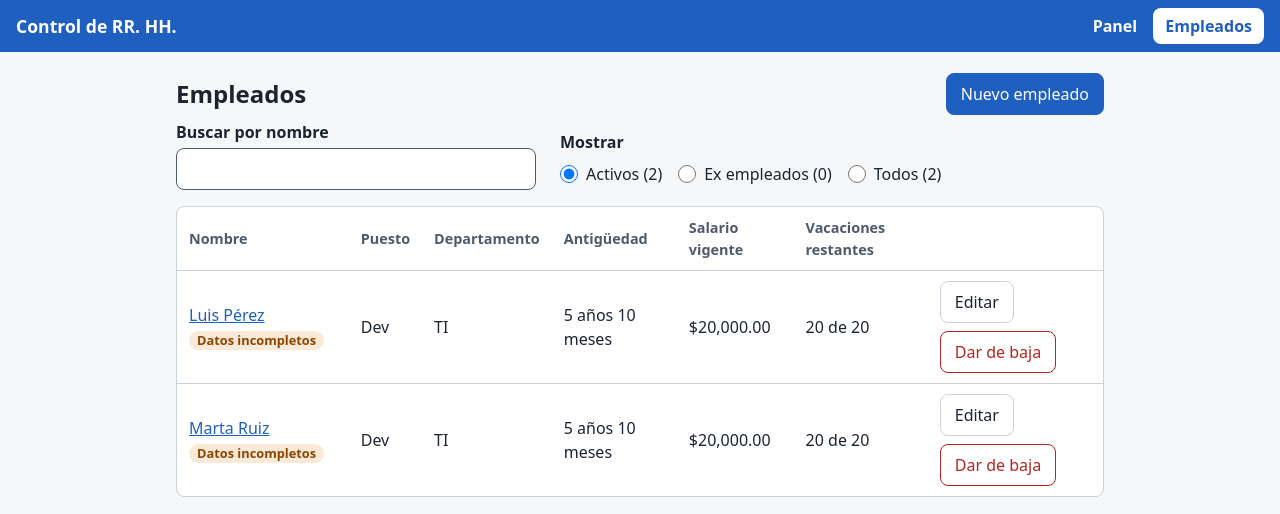
Test: CRUD de empleados (A1) › filtra la lista por nombre
Type "mar" into the search field labelled "Buscar por nombre".
click(356, 169); type("mar")  # box x1=176 y1=148 x2=536 y2=190
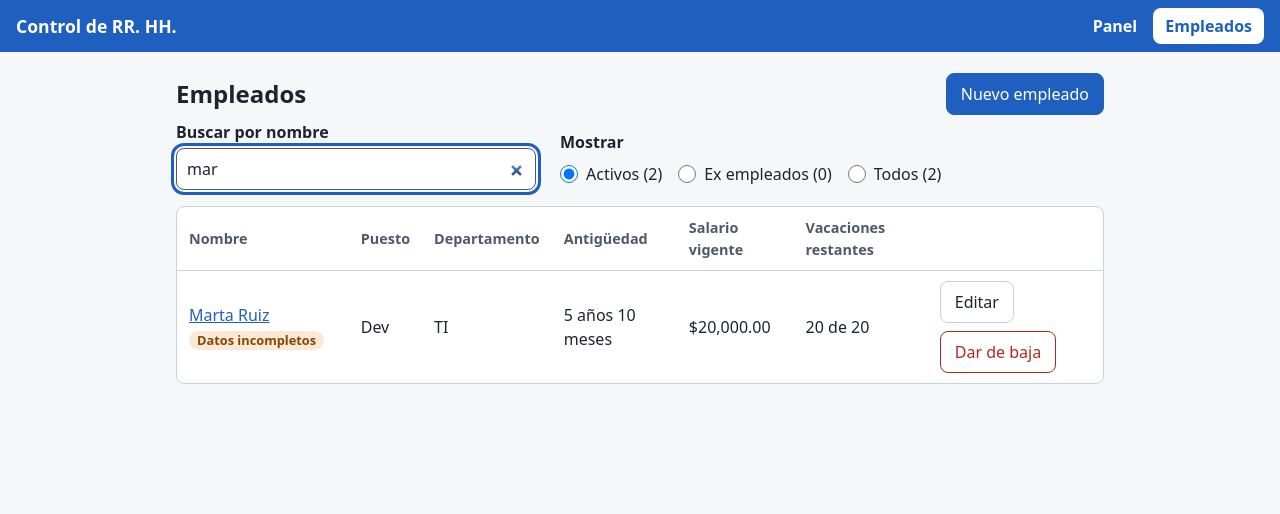
expect the link "Marta Ruiz" is shown: met, box x1=189 y1=304 x2=270 y2=326
expect the link "Luis Pérez" is gone: met
